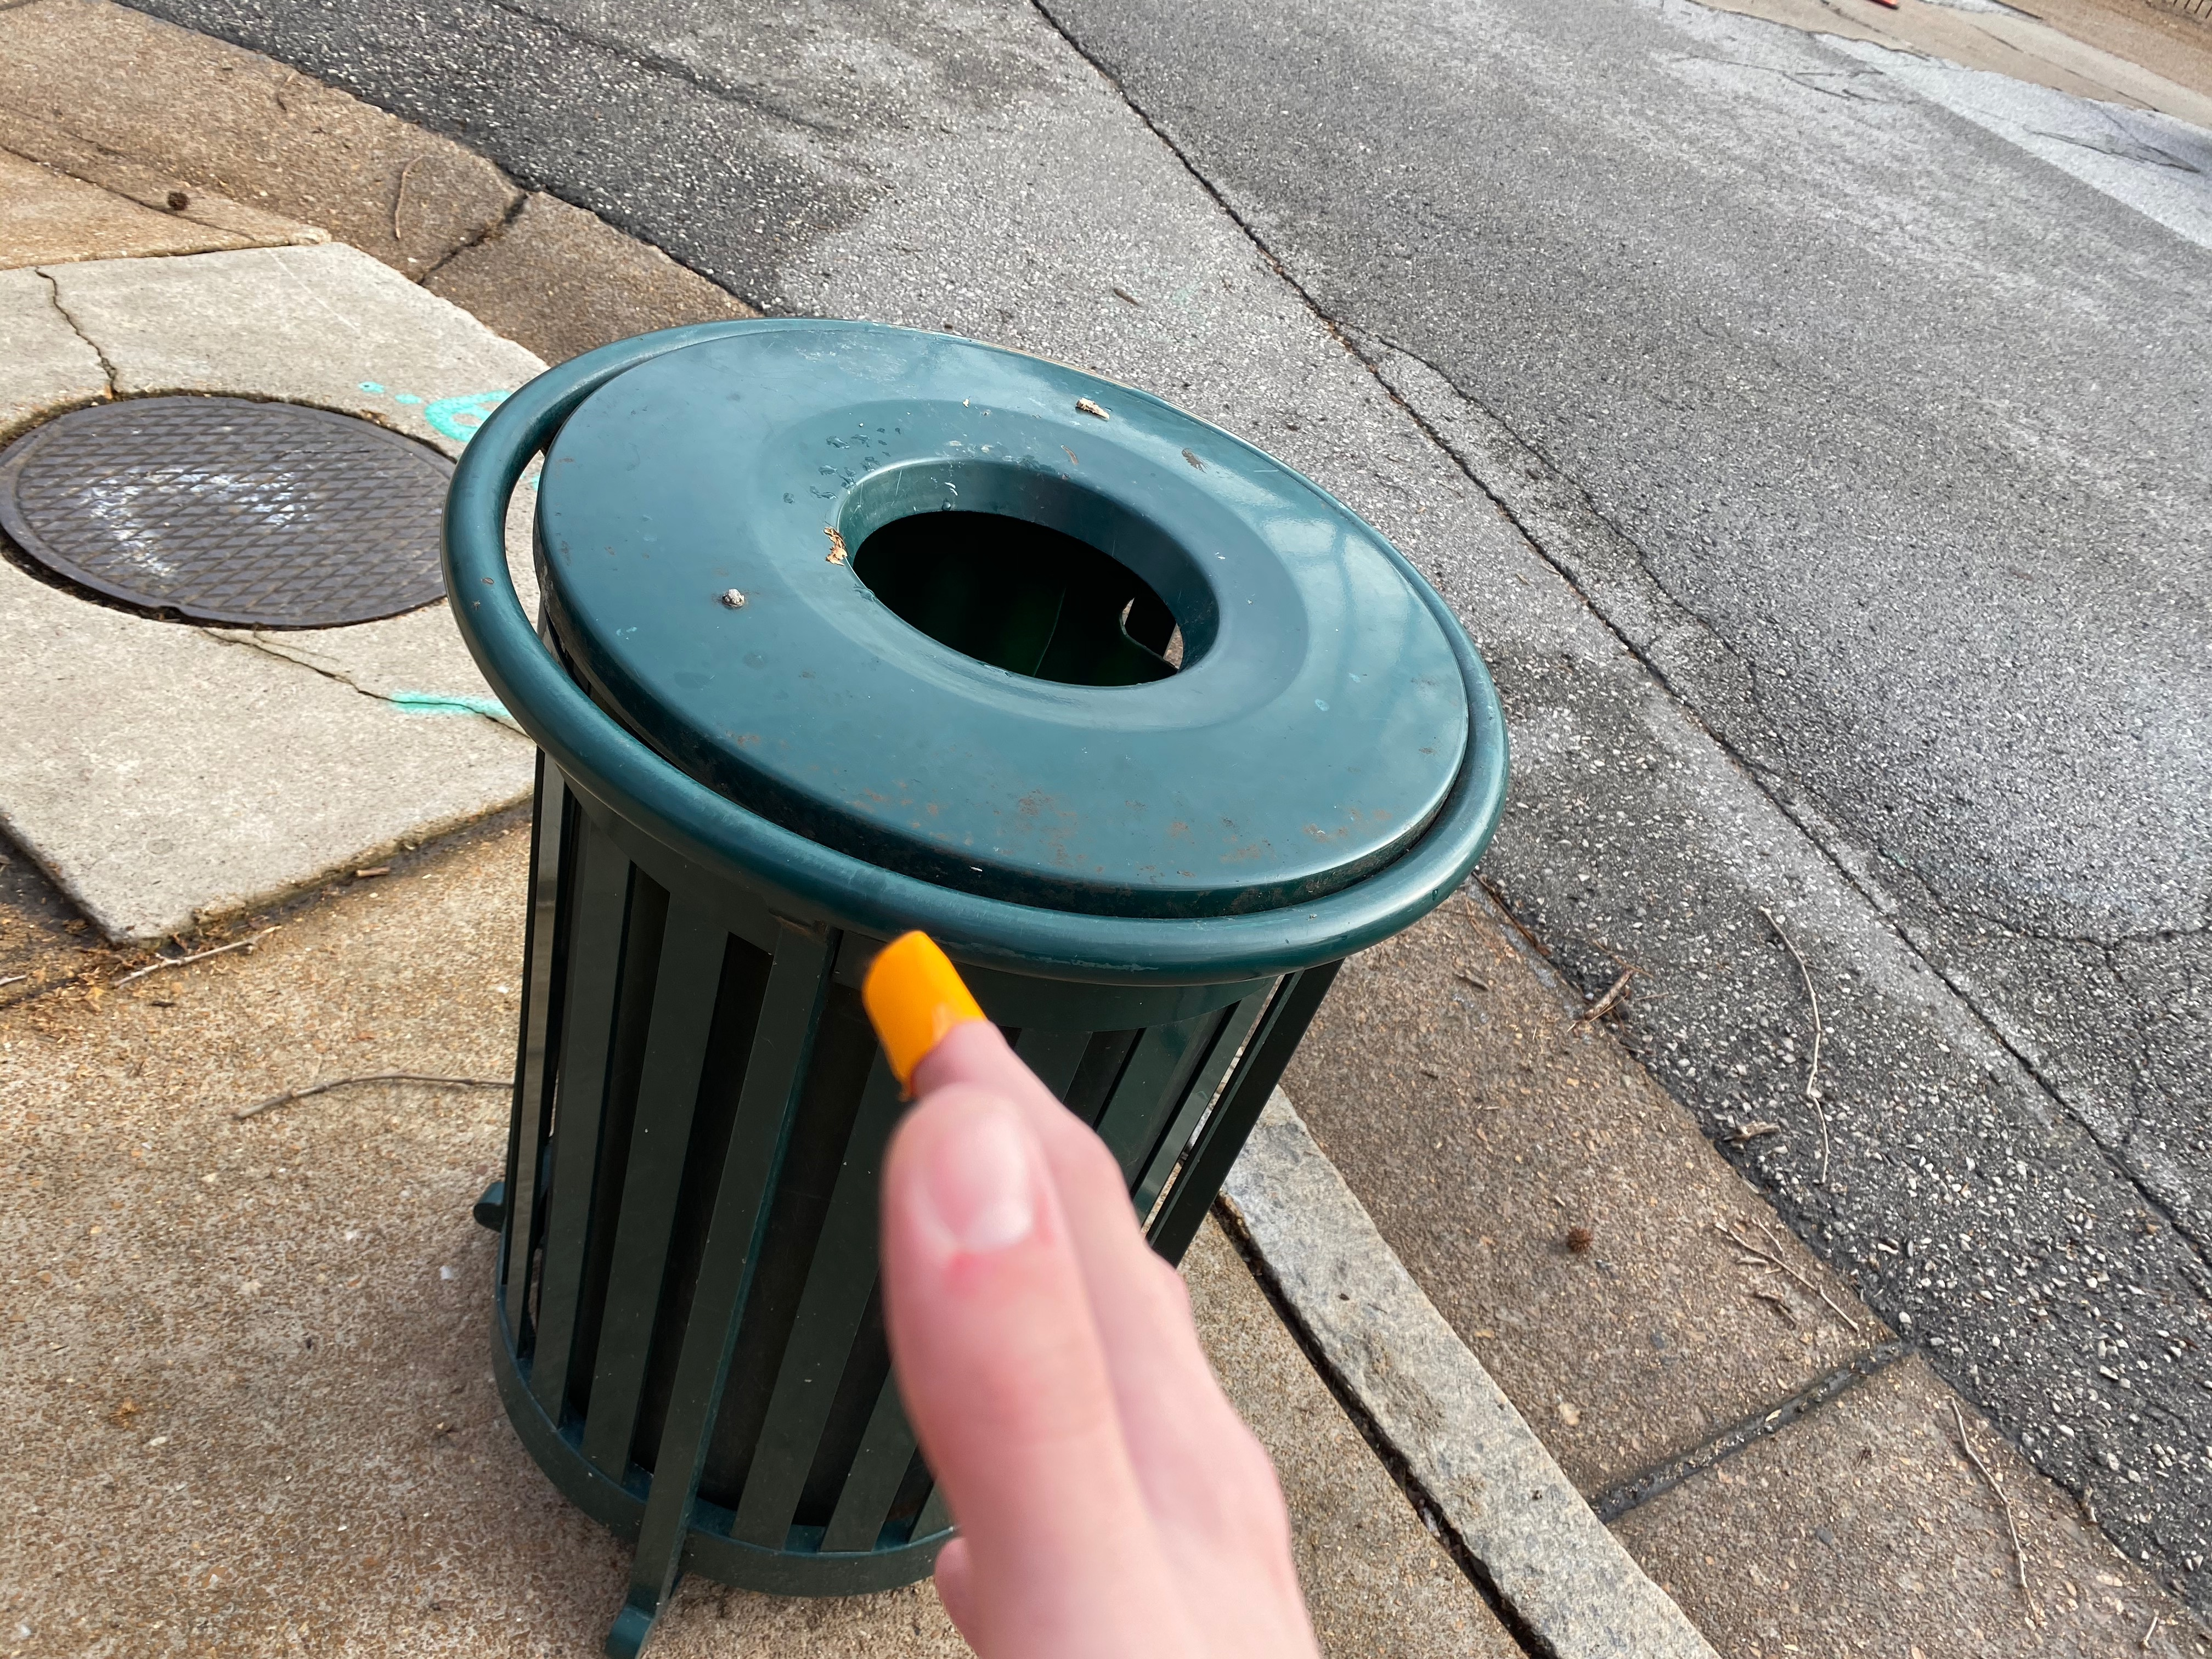fingertip: (829, 917, 1075, 1100)
